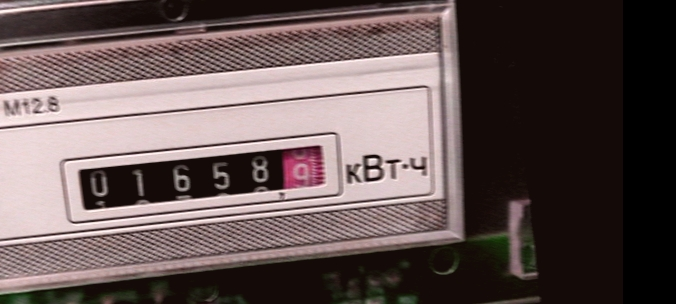0: (87, 166, 111, 200)
1: (131, 167, 147, 199)
5: (211, 159, 233, 193)
6: (171, 162, 194, 195)
8: (250, 153, 272, 187)
9: (291, 161, 311, 188)
screen: (52, 122, 350, 231)
